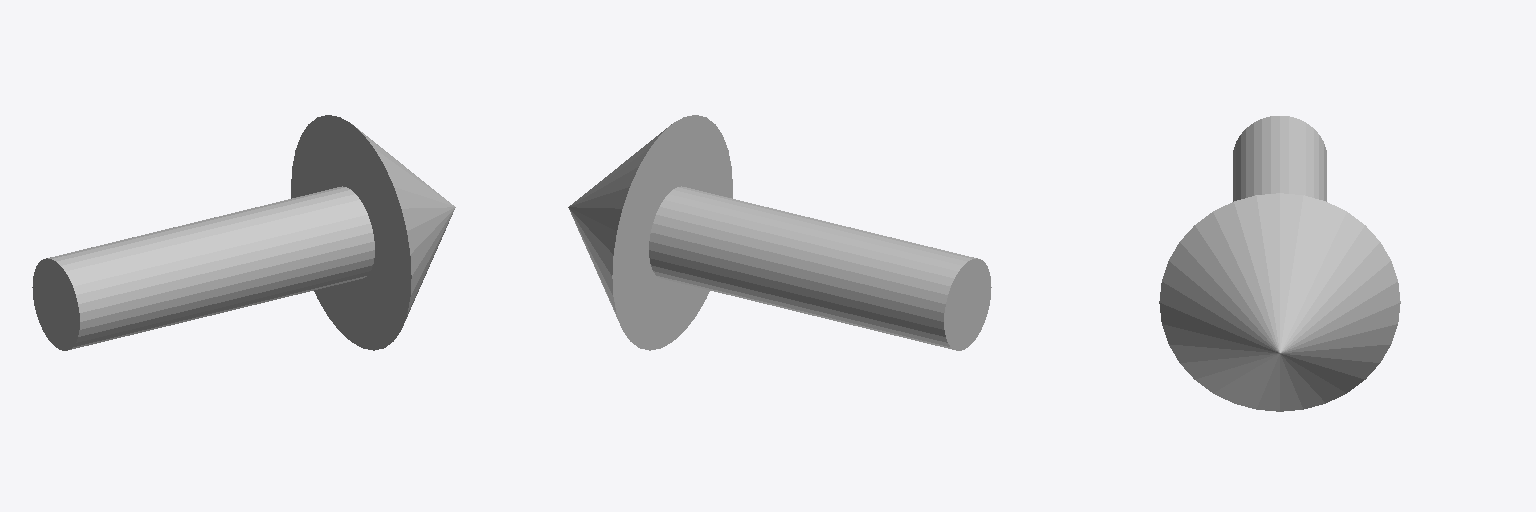
File: directional_light_arrow.obj
The picture shows the model from 3 angles: view 1: azimuth 30°, elevation 25°; view 2: azimuth 150°, elevation 25°; view 3: azimuth 270°, elevation 25°; orthographic projection.
Parts seen in each view (by area): view 1: Cone; view 2: Cone; view 3: Cone.
Part boxes in pixels (bbox=[...]): Cone: bbox=[32, 115, 455, 350]; Cone: bbox=[568, 115, 991, 350]; Cone: bbox=[1159, 116, 1400, 411].
Bounding box in the file's own units: 3.82 × 2 × 2.